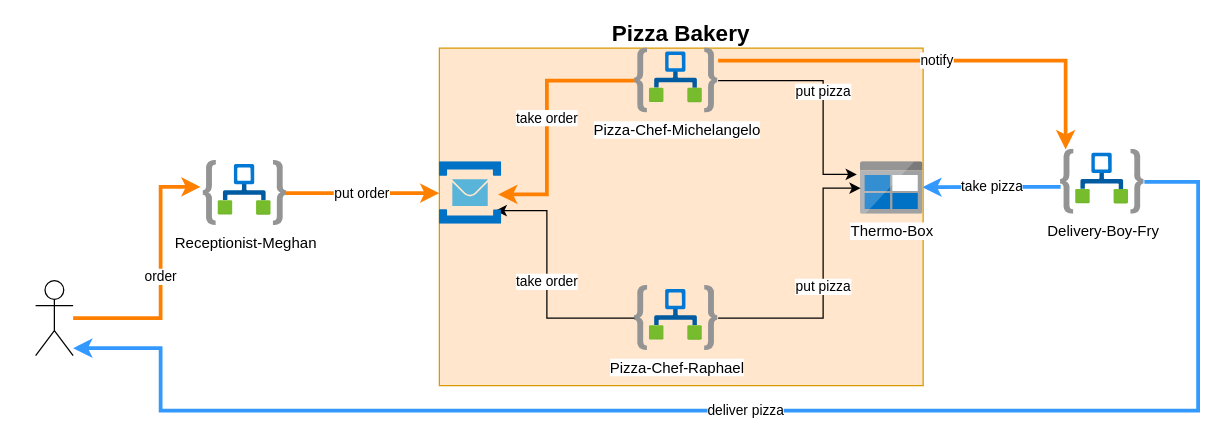
This 1231x444 diagram has some shape labels left out. The shapes that lost their labels are listed below. From the top down, each one's box as (x1, y1, x2, y2) in pixels, then its label:
(439, 161, 501, 224): queue-orders
(34, 279, 73, 356): Customer
